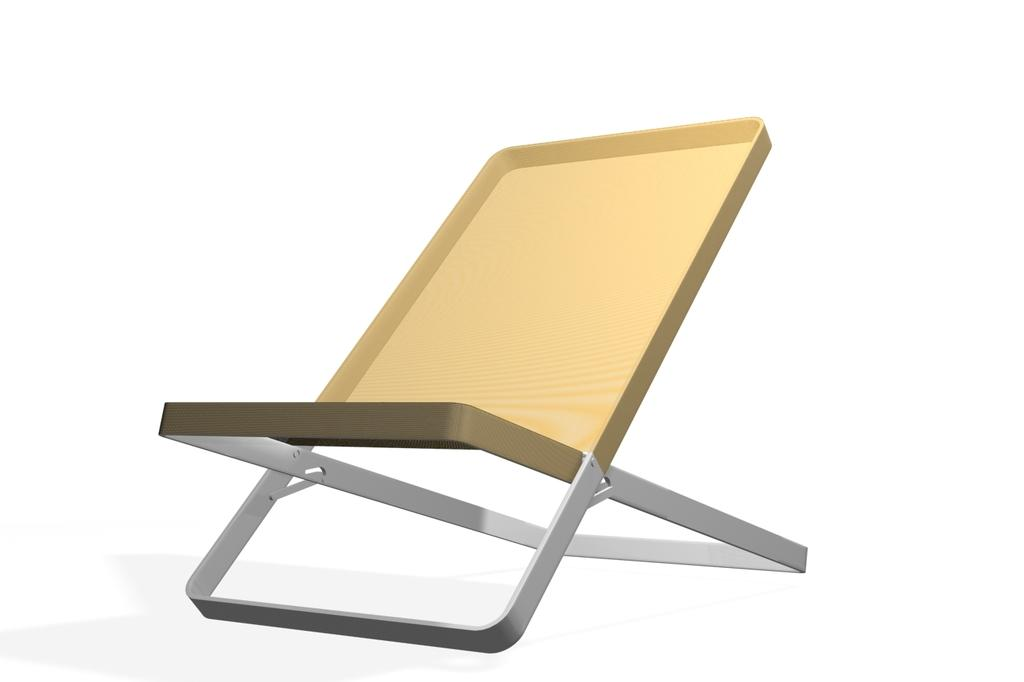Chair: (152, 119, 814, 655)
